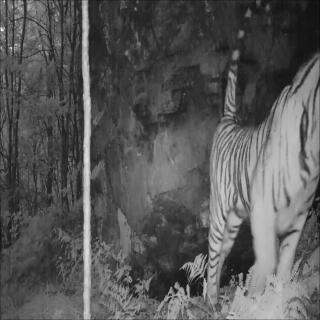Tiger: (199, 50, 320, 320)
